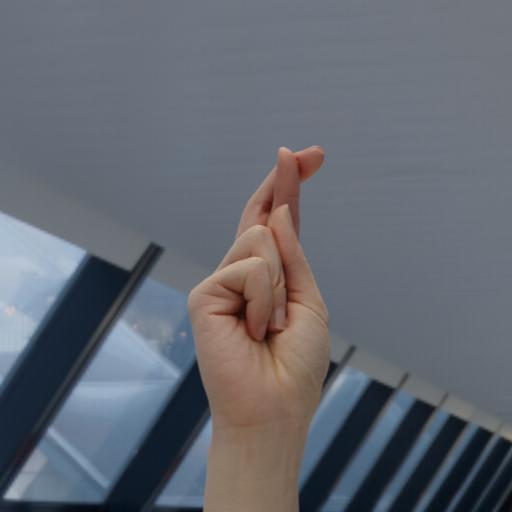R: (158, 130, 346, 460)
